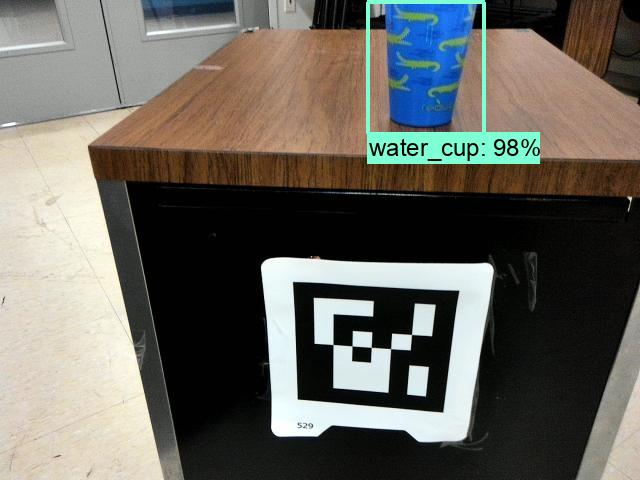water_cup: (374, 1, 483, 129)
